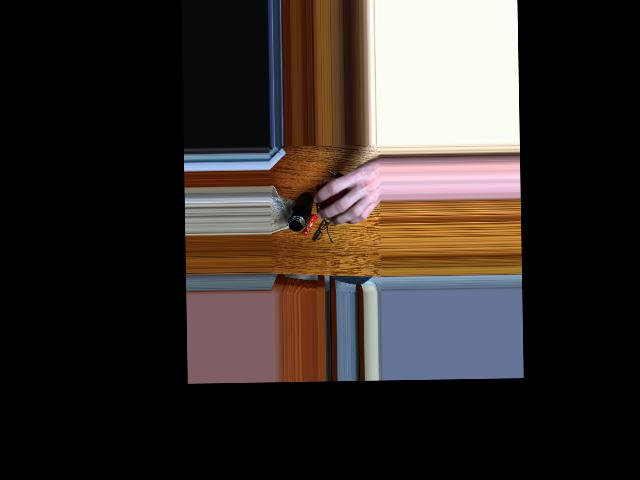onion: (323, 180, 355, 219)
